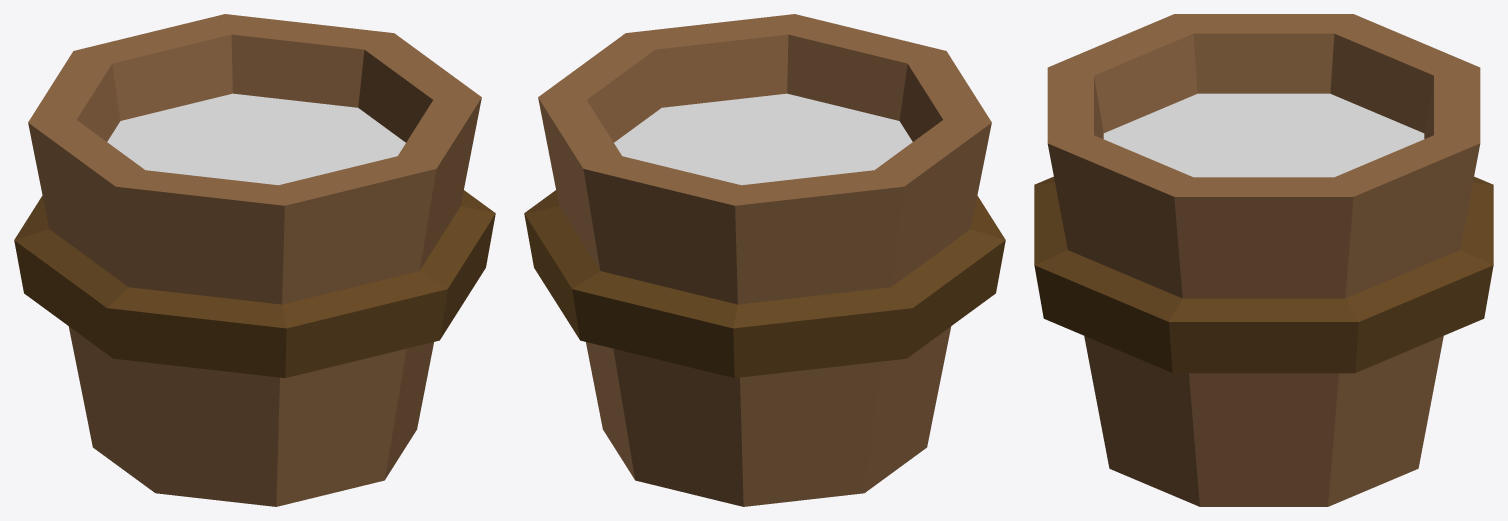
The model's file is WoodBucket.fbx.
The picture shows the model from 3 angles, left to right: view 1: azimuth 30°, elevation 25°; view 2: azimuth 150°, elevation 25°; view 3: azimuth 270°, elevation 25°; orthographic projection. The views are drawn at different scales.
Visible parts, largest first — view 1: cylinder, BucketContent; view 2: cylinder, BucketContent; view 3: cylinder, BucketContent.
Boxes of the visible parts, x1,y1,x2,y2 form: cylinder: (14,14,495,506); BucketContent: (107,93,405,185); cylinder: (524,14,1005,506); BucketContent: (614,93,912,185); cylinder: (1034,14,1493,506); BucketContent: (1103,93,1424,177).
Size of the model in its own units: 46.42 by 37.5 by 46.42.
Materials: 1 (1 with a texture image).
